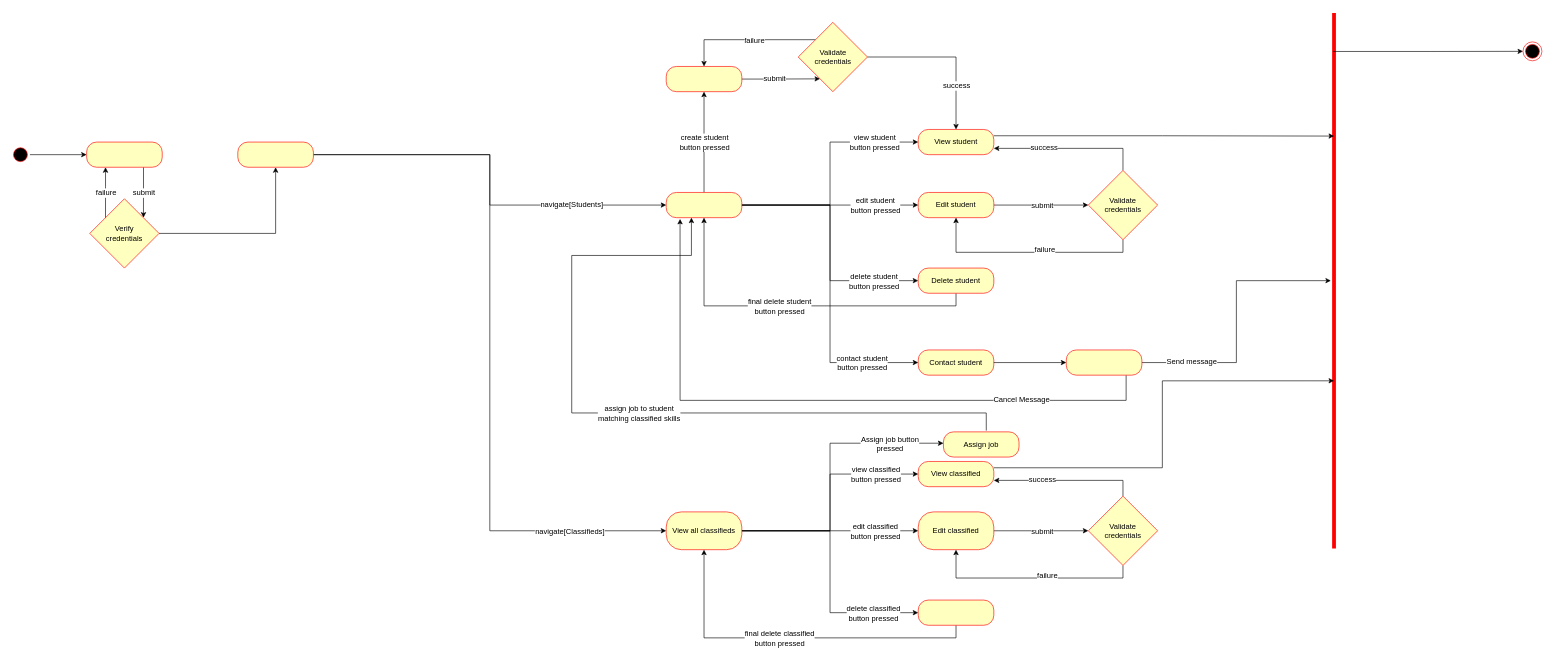
This 1553x658 diagram has some shape labels left out. The box of each missing label's shape, as (x1, y1, x2, y2) in pixels:
Create student: (666, 66, 742, 92)
Delete classified: (918, 599, 994, 625)
Login: (86, 141, 162, 167)
Message and Job decription: (1066, 349, 1142, 375)
View account details: (237, 141, 313, 167)
View all students: (666, 192, 742, 218)
